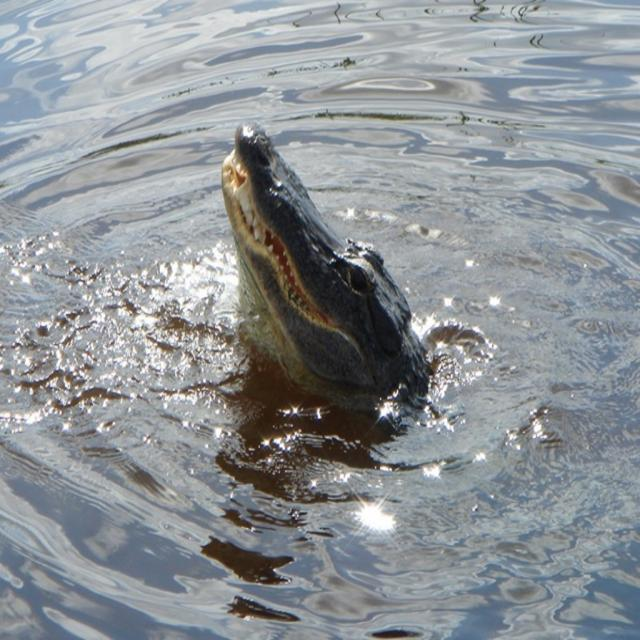crocodile: (184, 107, 485, 455)
